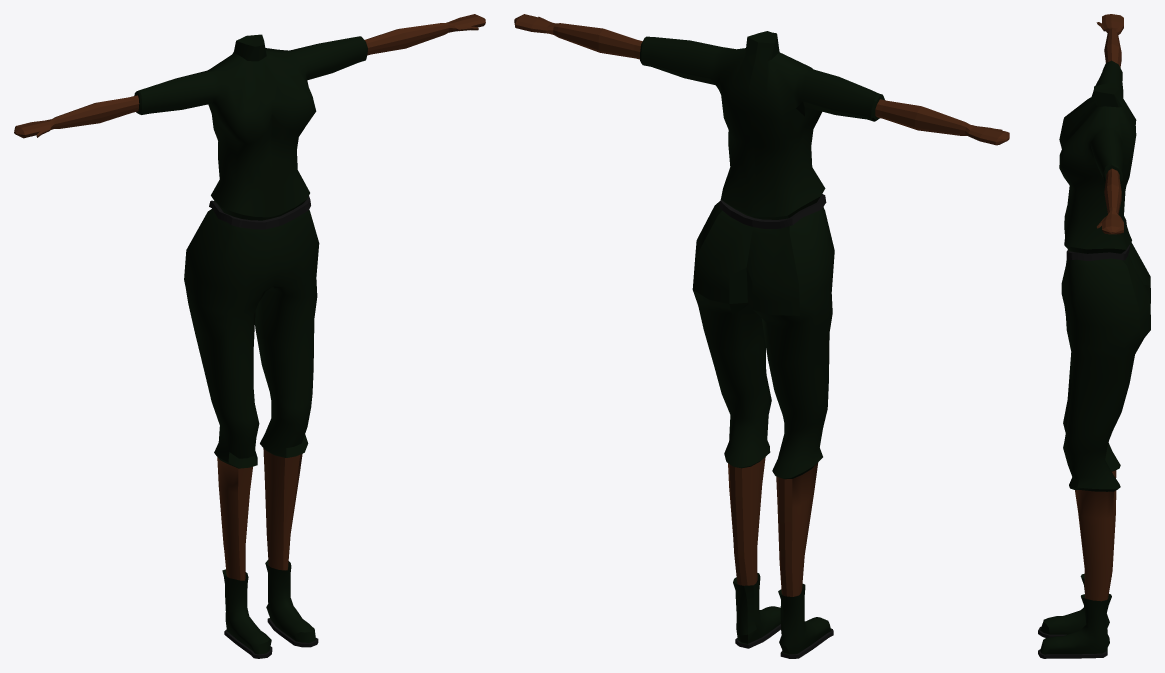
The model's file is personaje.FBX.
The picture shows the model from 3 angles, left to right: view 1: azimuth 30°, elevation 25°; view 2: azimuth 150°, elevation 25°; view 3: azimuth 270°, elevation 25°; orthographic projection. The views are drawn at different scales.
Visible parts, largest first — view 1: Box001; view 2: Box001; view 3: Box001.
Boxes of the visible parts, <box> form: Box001: <box>14,14,485,658</box>; Box001: <box>514,14,1009,658</box>; Box001: <box>1038,14,1150,658</box>.
Bounding box in the file's own units: 104 × 124 × 22.77.
